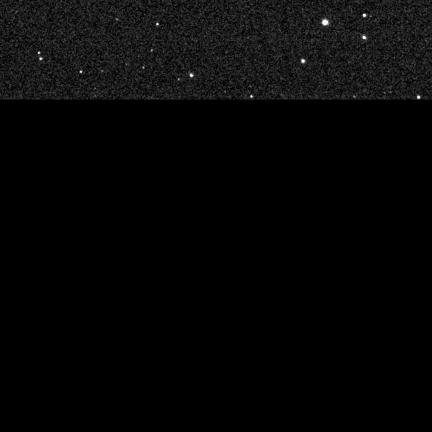blob: (322, 20, 329, 26), (250, 95, 254, 99), (301, 59, 305, 63), (39, 57, 43, 60), (157, 23, 160, 27), (38, 52, 42, 55), (363, 14, 367, 17), (190, 73, 193, 77), (362, 36, 366, 39), (417, 96, 420, 99), (80, 71, 83, 74), (151, 49, 154, 52), (178, 79, 181, 81)
